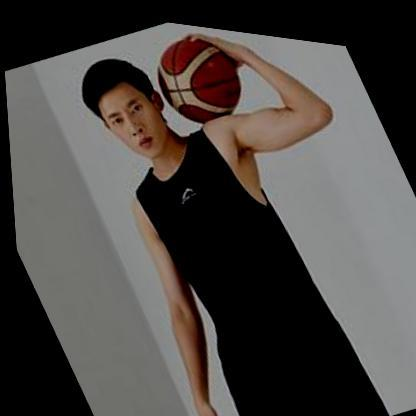basketball: (141, 15, 252, 129)
